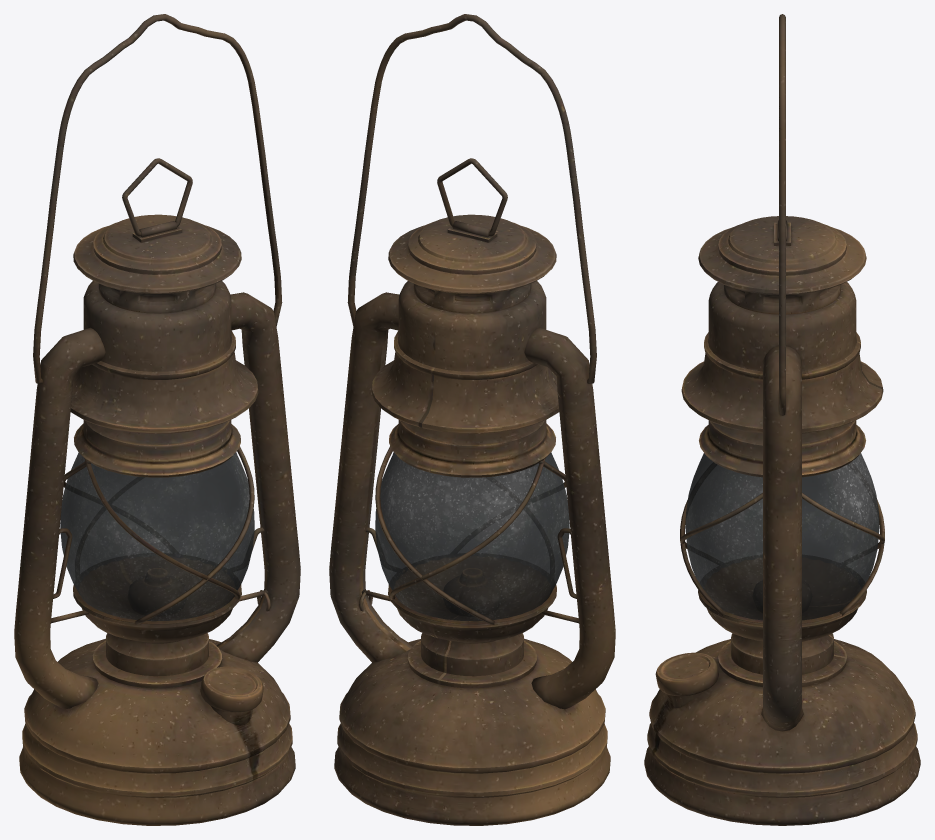
Rendered from hurricane-lantern_final.glb.
3 views of the same model, side by side, from view 1: azimuth 30°, elevation 25°; view 2: azimuth 150°, elevation 25°; view 3: azimuth 270°, elevation 25° (orthographic).
Visible parts, largest first — view 1: SM_HurricaneLantern_Tank, SM_HurricaneLantern_Chimney, SM_HurricaneLantern_Globe, SM_HurricaneLantern_Tube_L, SM_HurricaneLantern_Tube_R, SM_HurricaneLantern_Burner, SM_HurricaneLantern_Cap, SM_HurricaneLantern_Bail, SM_HurricaneLantern_FillerCap, SM_HurricaneLantern_VentBand, SM_HurricaneLantern_BurnerHead, SM_HurricaneLantern_Guard_1 (+2 smaller); view 2: SM_HurricaneLantern_Tank, SM_HurricaneLantern_Chimney, SM_HurricaneLantern_Globe, SM_HurricaneLantern_Tube_L, SM_HurricaneLantern_Burner, SM_HurricaneLantern_Tube_R, SM_HurricaneLantern_Cap, SM_HurricaneLantern_Bail, SM_HurricaneLantern_VentBand, SM_HurricaneLantern_BurnerHead, SM_HurricaneLantern_Guard_2, SM_HurricaneLantern_Guard_3 (+1 smaller); view 3: SM_HurricaneLantern_Tank, SM_HurricaneLantern_Chimney, SM_HurricaneLantern_Globe, SM_HurricaneLantern_Tube_R, SM_HurricaneLantern_Burner, SM_HurricaneLantern_Cap, SM_HurricaneLantern_Bail, SM_HurricaneLantern_FillerCap, SM_HurricaneLantern_VentBand, SM_HurricaneLantern_Guard_3, SM_HurricaneLantern_Guard_0, SM_HurricaneLantern_Guard_1 (+1 smaller).
Part boxes in pixels (x1,y1,x2,y2): SM_HurricaneLantern_Tank: (19,638,295,825); SM_HurricaneLantern_Chimney: (70,281,258,477); SM_HurricaneLantern_Globe: (60,452,254,621); SM_HurricaneLantern_Tube_L: (14,327,105,709); SM_HurricaneLantern_Tube_R: (217,292,300,662); SM_HurricaneLantern_Burner: (73,555,241,688); SM_HurricaneLantern_Cap: (73,214,241,293); SM_HurricaneLantern_Bail: (33,14,282,383); SM_HurricaneLantern_FillerCap: (200,666,263,725); SM_HurricaneLantern_VentBand: (98,283,216,313); SM_HurricaneLantern_BurnerHead: (128,568,186,616); SM_HurricaneLantern_Guard_1: (135,446,254,624); SM_HurricaneLantern_Tank: (334,638,610,825); SM_HurricaneLantern_Chimney: (371,281,559,477); SM_HurricaneLantern_Globe: (375,452,569,621); SM_HurricaneLantern_Tube_L: (524,327,615,709); SM_HurricaneLantern_Burner: (388,555,556,688); SM_HurricaneLantern_Tube_R: (329,292,412,662); SM_HurricaneLantern_Cap: (388,214,556,293); SM_HurricaneLantern_Bail: (347,14,596,383); SM_HurricaneLantern_VentBand: (413,283,531,313); SM_HurricaneLantern_BurnerHead: (443,568,501,616); SM_HurricaneLantern_Guard_2: (375,446,494,624); SM_HurricaneLantern_Guard_3: (390,458,545,600); SM_HurricaneLantern_Tank: (644,639,920,825); SM_HurricaneLantern_Chimney: (681,282,883,477); SM_HurricaneLantern_Globe: (685,453,879,620); SM_HurricaneLantern_Tube_R: (761,346,803,731); SM_HurricaneLantern_Burner: (698,557,866,686); SM_HurricaneLantern_Cap: (698,216,866,294); SM_HurricaneLantern_Bail: (779,14,785,415); SM_HurricaneLantern_FillerCap: (655,652,718,708); SM_HurricaneLantern_VentBand: (724,285,840,314); SM_HurricaneLantern_Guard_3: (839,499,884,615); SM_HurricaneLantern_Guard_0: (680,500,725,615); SM_HurricaneLantern_Guard_1: (680,493,762,548).
Size of the model in its own units: 0.1165 by 0.2985 by 0.099.
Materials: 3 (3 with a texture image).
